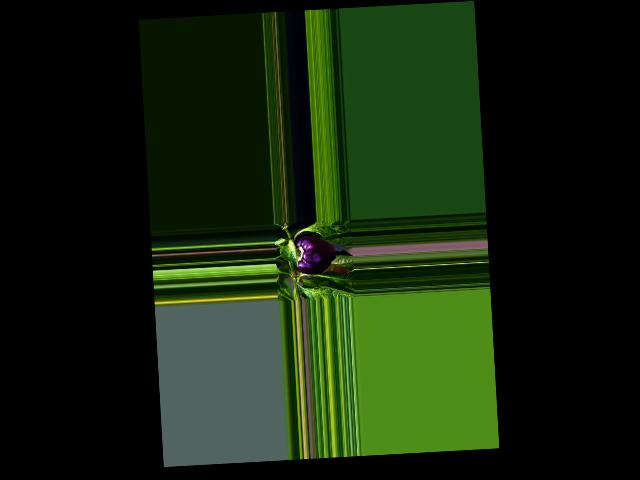bell_pepper: (290, 234, 338, 276)
